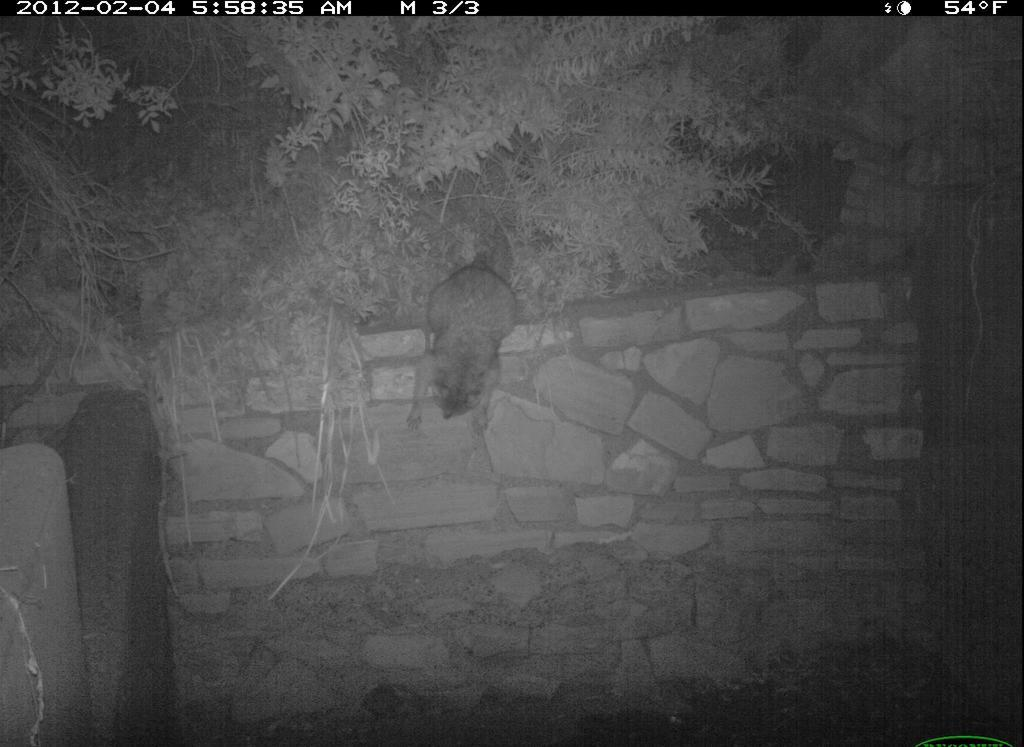raccoon: (404, 242, 537, 452)
